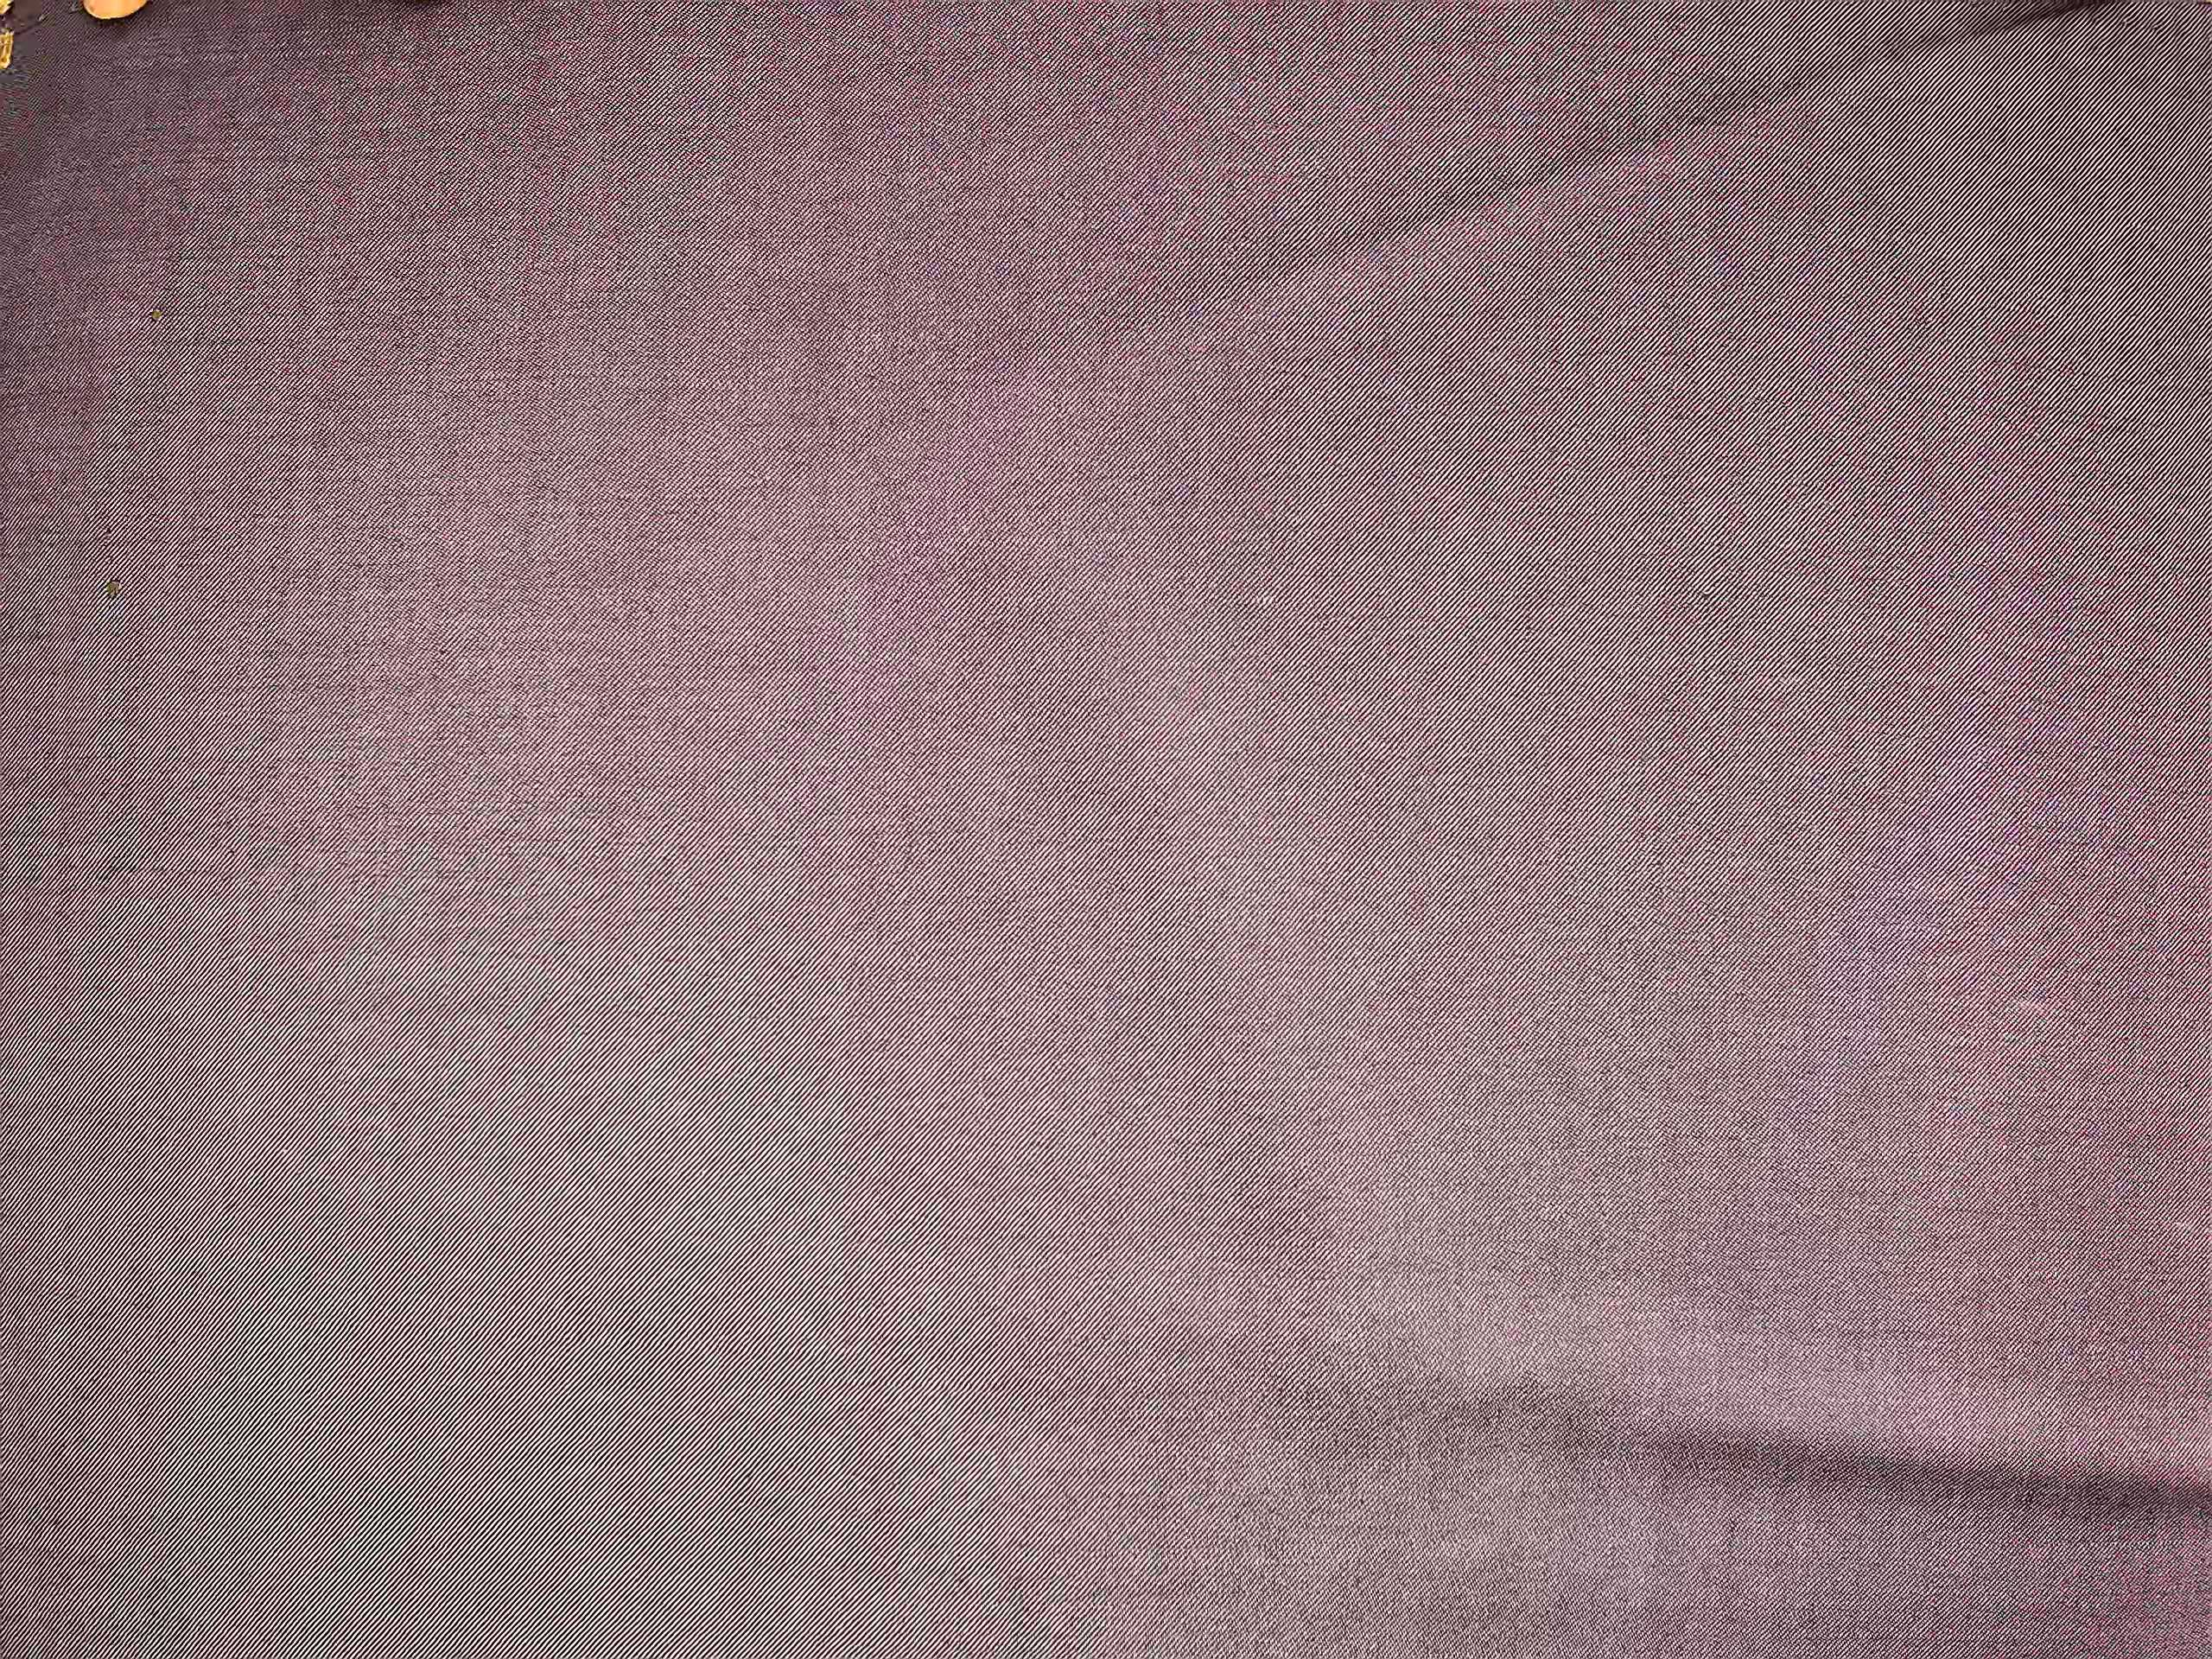others: (98, 572, 129, 606), (145, 300, 171, 328)
